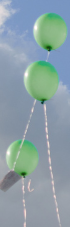Balloon: (24, 61, 59, 101), (33, 12, 66, 50), (6, 140, 39, 175)
